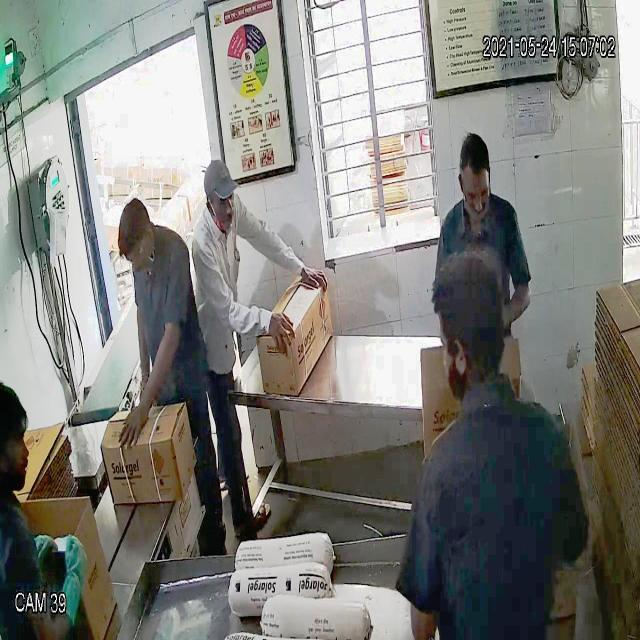glasses: (458, 174, 492, 212)
no-glass: (207, 188, 237, 212)
